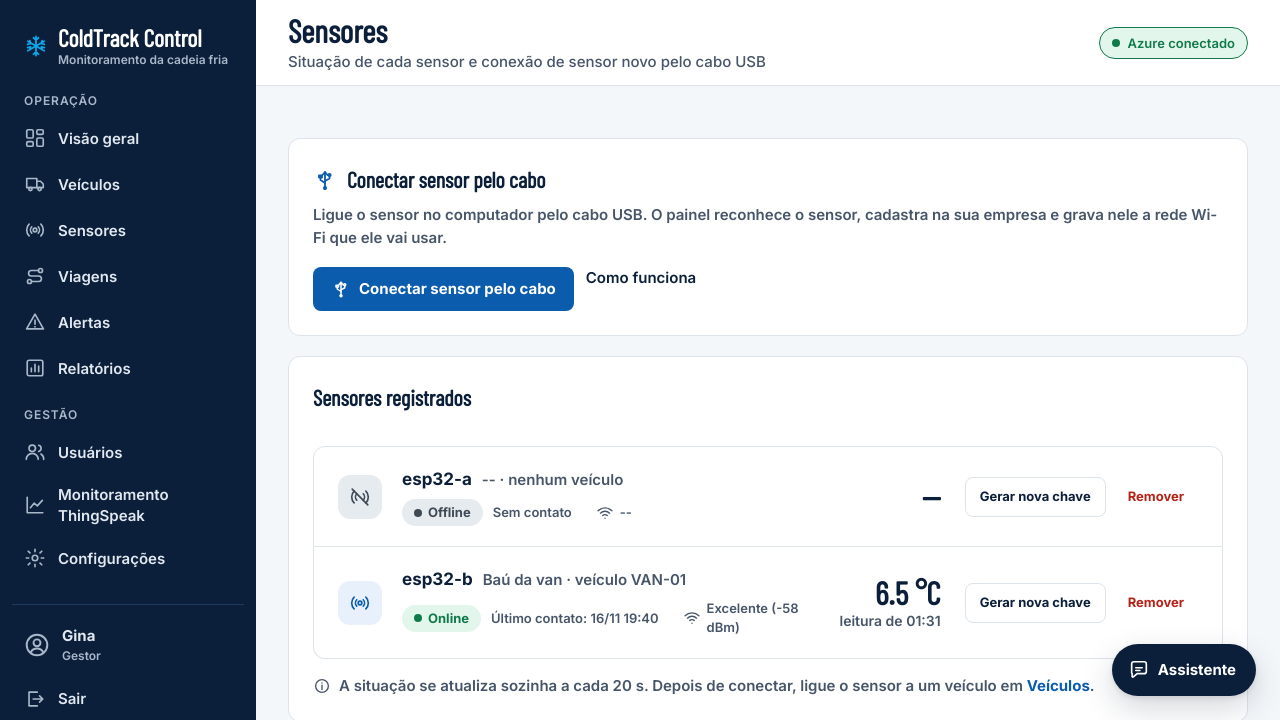
it: Sensores - ações do gestor › gerar nova chave: confirma, mostra a chave uma vez com o trecho do secrets.h e fecha
Click the button "Gerar nova chave" in the row of "esp32-b" at (1035, 602), box [965,582,1106,622]
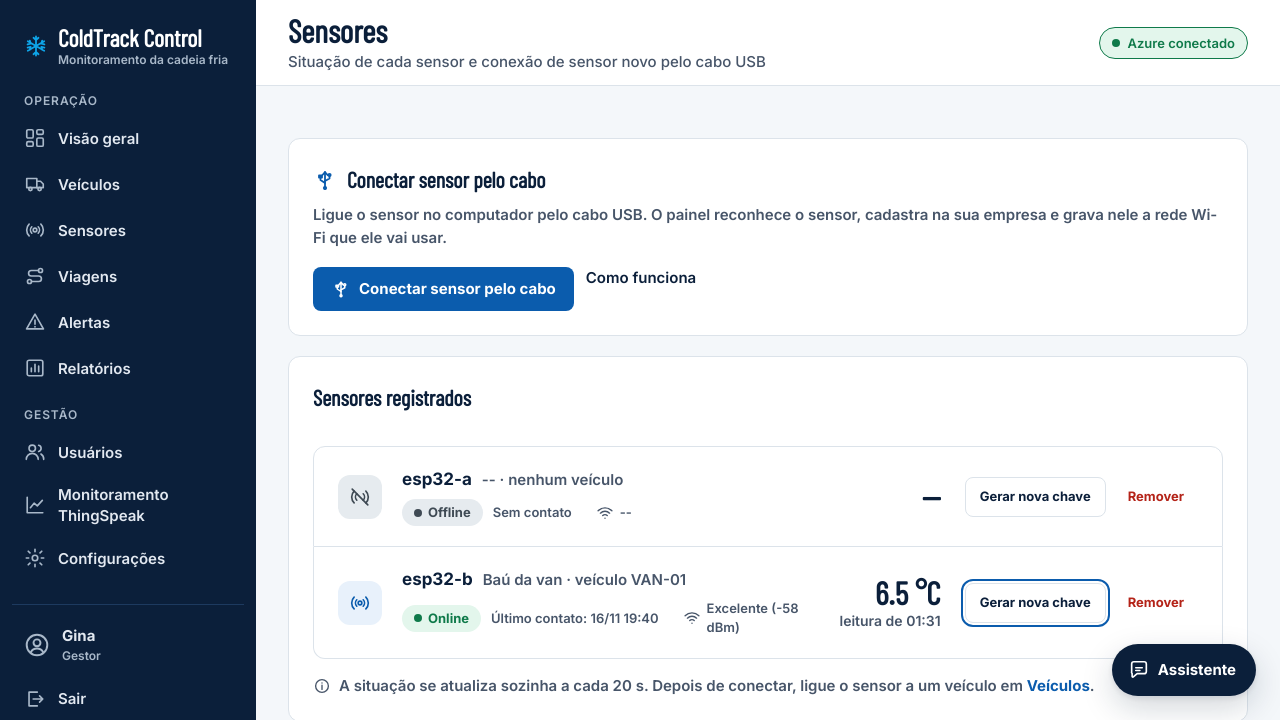
Check: the text "Chave do sensor" is not shown
Click the button "Gerar nova chave" in the row of "esp32-b" at (1035, 602), box [965,582,1106,622]
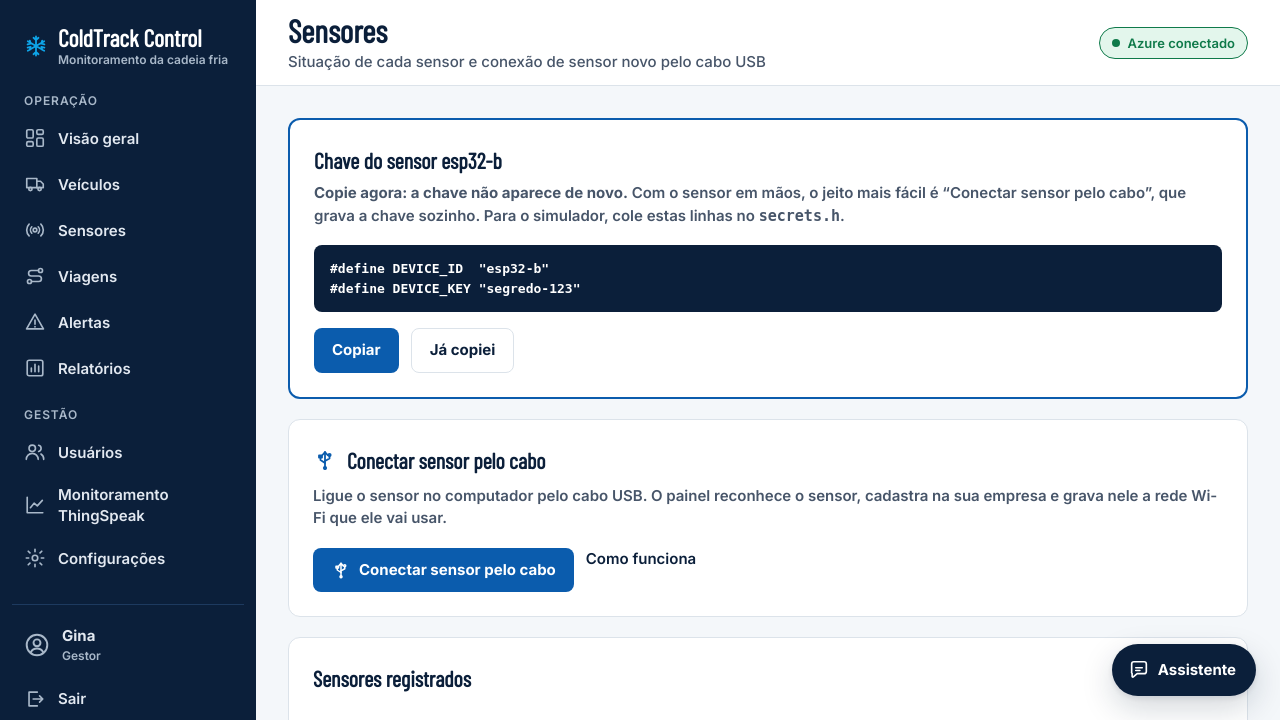
Check: the heading "Chave do sensor esp32-b" is shown, box [314,147,502,173]
Click the button with id "fecharChave" at (462, 351), box [411,328,514,373]
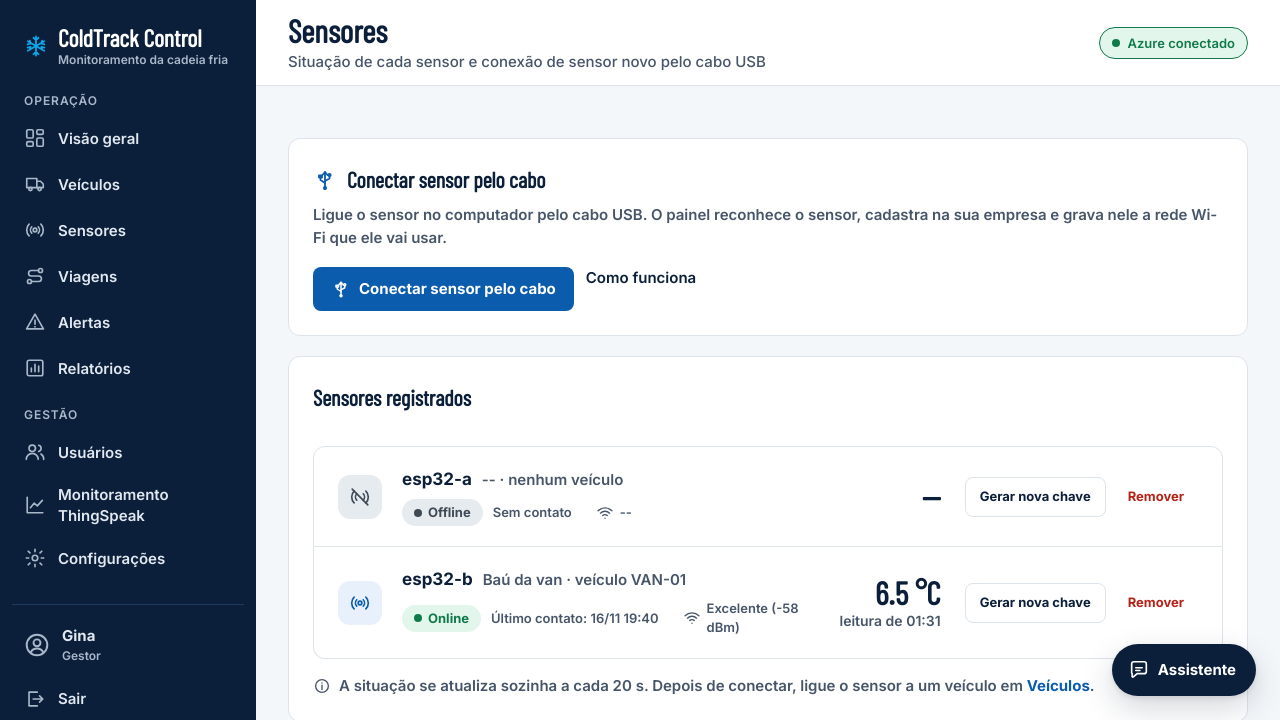
Check: the heading "Chave do sensor" is gone
